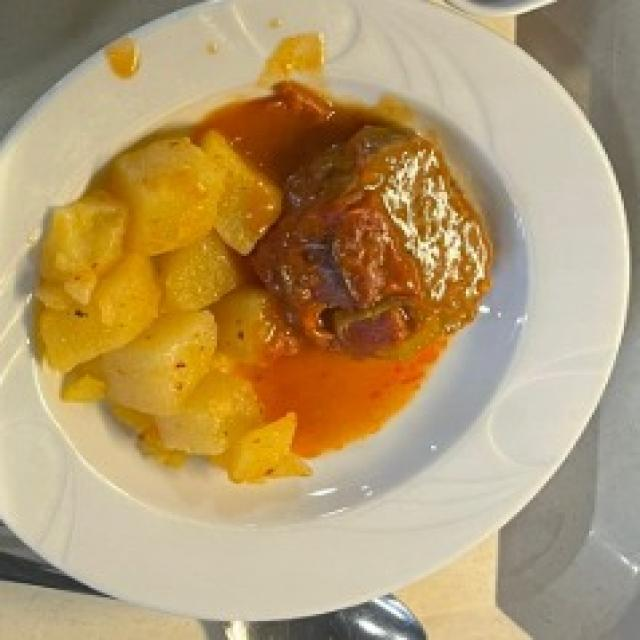ana_yemek: (27, 37, 578, 572)
